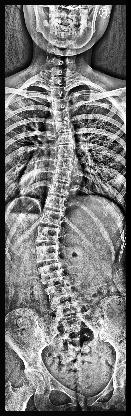Vertebrae: (44, 283, 74, 306), (38, 263, 66, 285), (52, 300, 84, 318), (35, 244, 61, 262), (40, 208, 64, 226), (36, 226, 60, 244), (46, 194, 68, 210), (50, 182, 70, 198), (53, 119, 75, 132), (52, 169, 72, 183), (50, 97, 69, 111), (56, 144, 75, 158), (55, 157, 73, 171), (57, 132, 75, 144), (52, 111, 72, 121)
